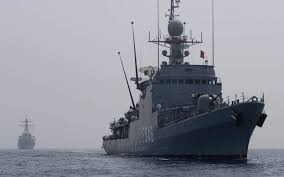tau_muctieu: (99, 19, 264, 164), (14, 113, 38, 151)
